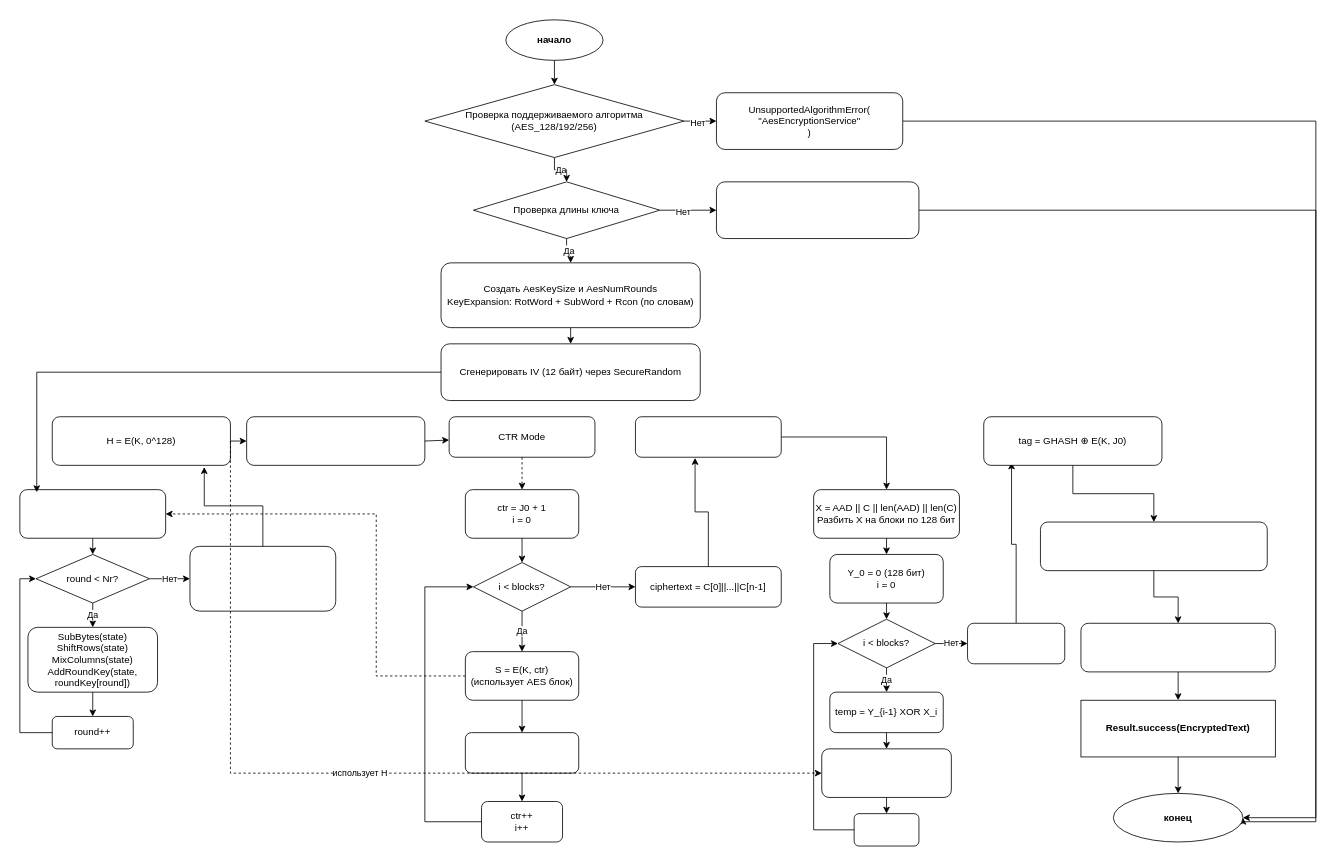
Some shapes in this 1337 by 860 pixel diagram are drawn without their labels. Here are the shapes that lost their labels. From the top down, the centre of each, then its label:
point (817, 210): DomainError (неверная длина ключа)
point (335, 440): J0 = IV || 0x00000001
point (708, 436): GHASH
point (92, 513): E(K, X): State = X AddRoundKey(state, roundKey[0])
point (1153, 546): encryptedData = ciphertext || tag
point (262, 578): SubBytes(state) ShiftRows(state) AddRoundKey(state, roundKey[Nr]) Output = state
point (1016, 643): GHASH = Y_n
point (1177, 647): EncryptedText(value, algorithm, iv)
point (522, 752): C[i] = P[i] XOR S
point (886, 772): Y_i = temp * H (GF(2^128) умножение)
point (886, 829): i++
